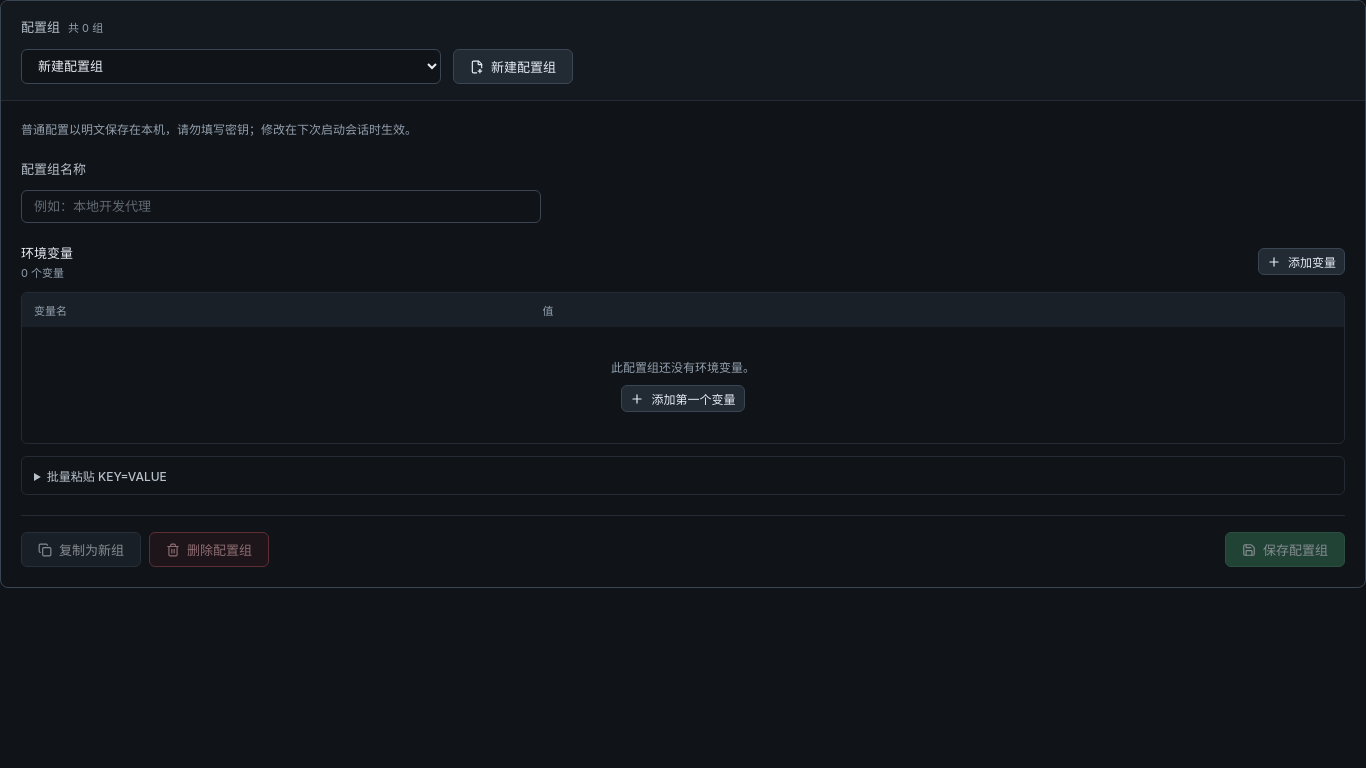
Test: environment configuration UI › creates a group from bulk input and displays saved state
Type "开发代理" into the field labelled "配置组名称" at (281, 206), box [21,190,541,223]
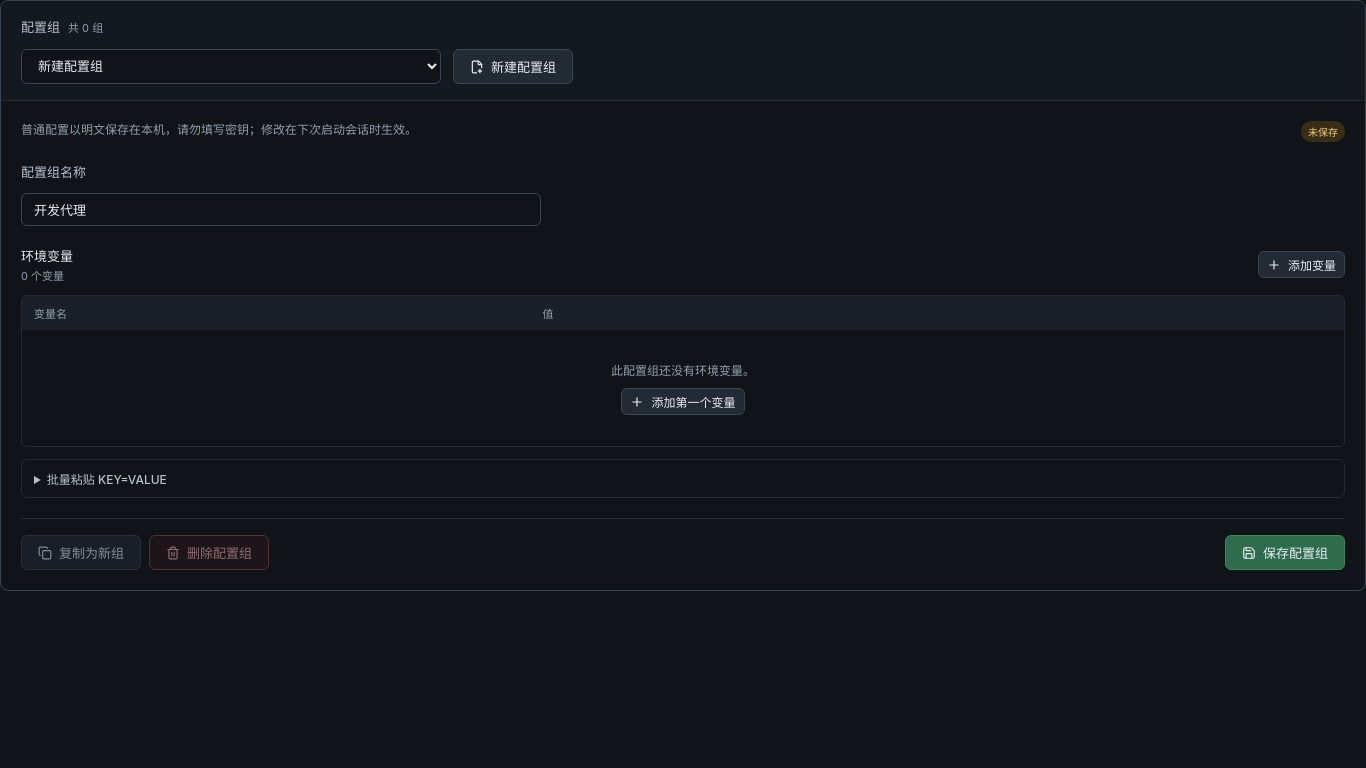
Click the heading "批量粘贴 KEY=VALUE" at (107, 480), box [47,472,167,487]
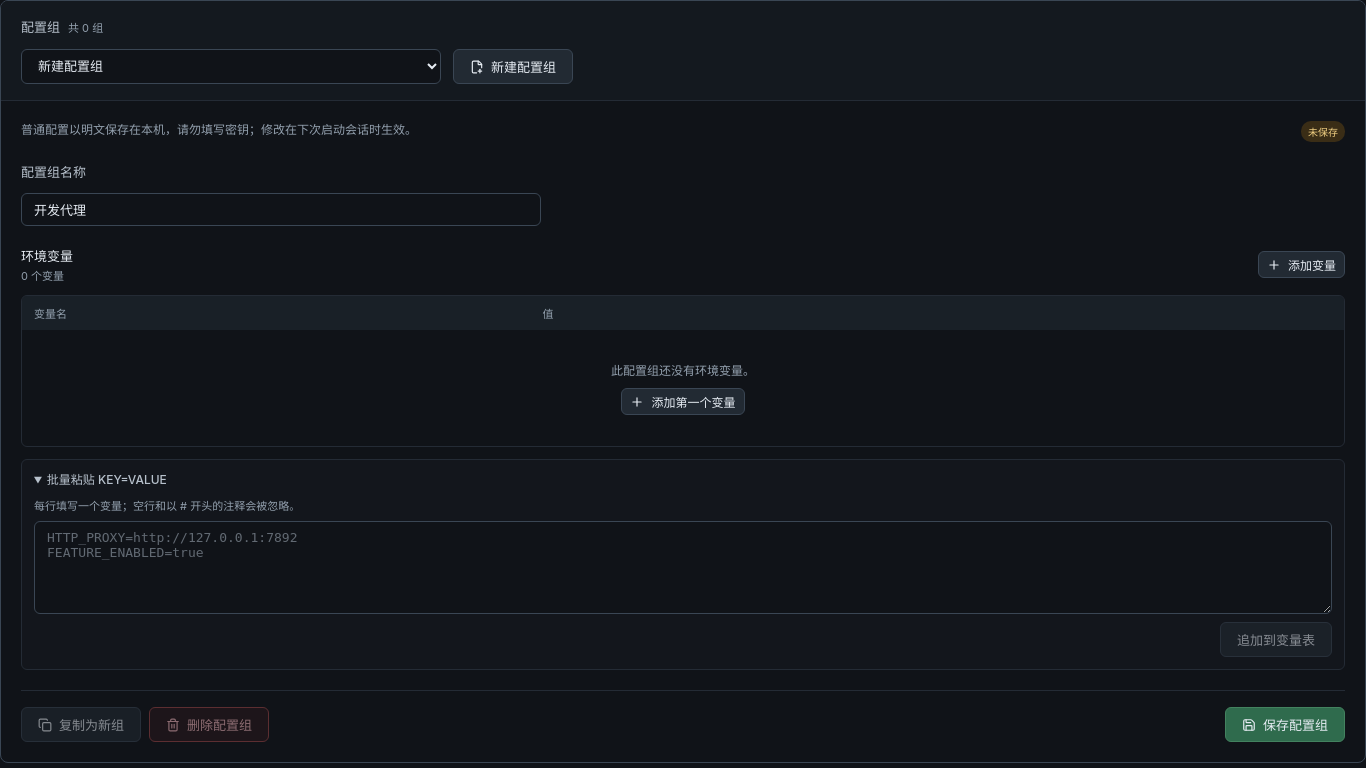
Type "HTTP_PROXY=http://localhost:7892" into the text box named "批量环境变量" at (683, 568), box [34,521,1332,614]
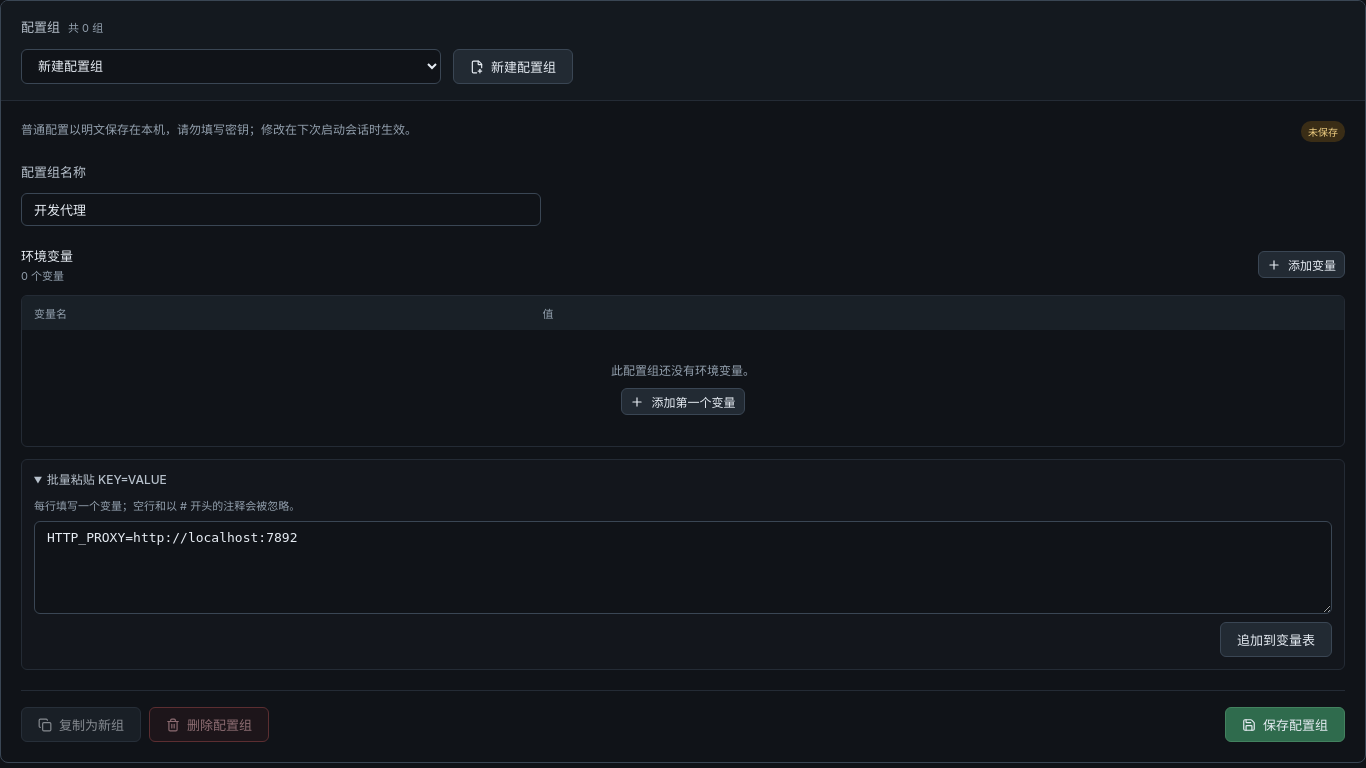
Click the button "追加到变量表" at (1276, 640), box [1220,622,1332,657]
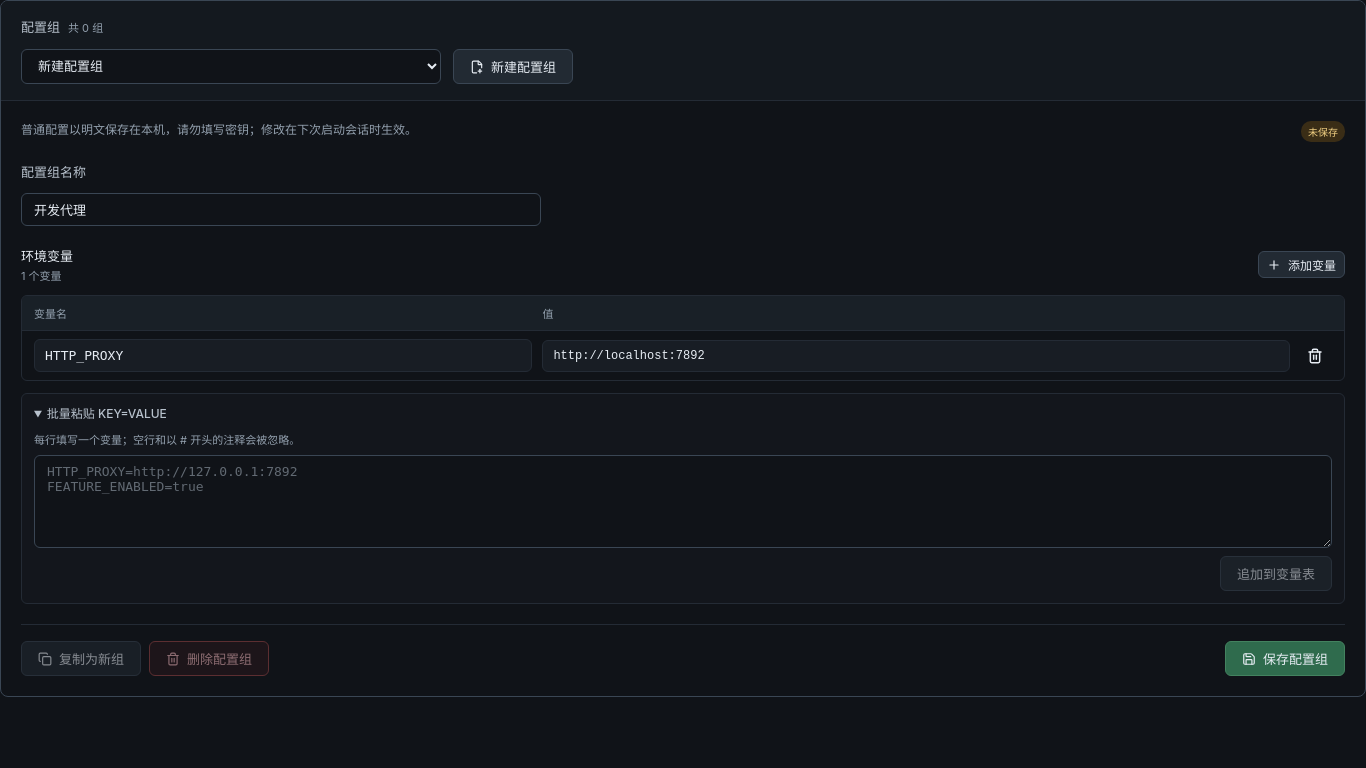
Click the button "保存配置组" at (1285, 658), box [1225,641,1345,676]
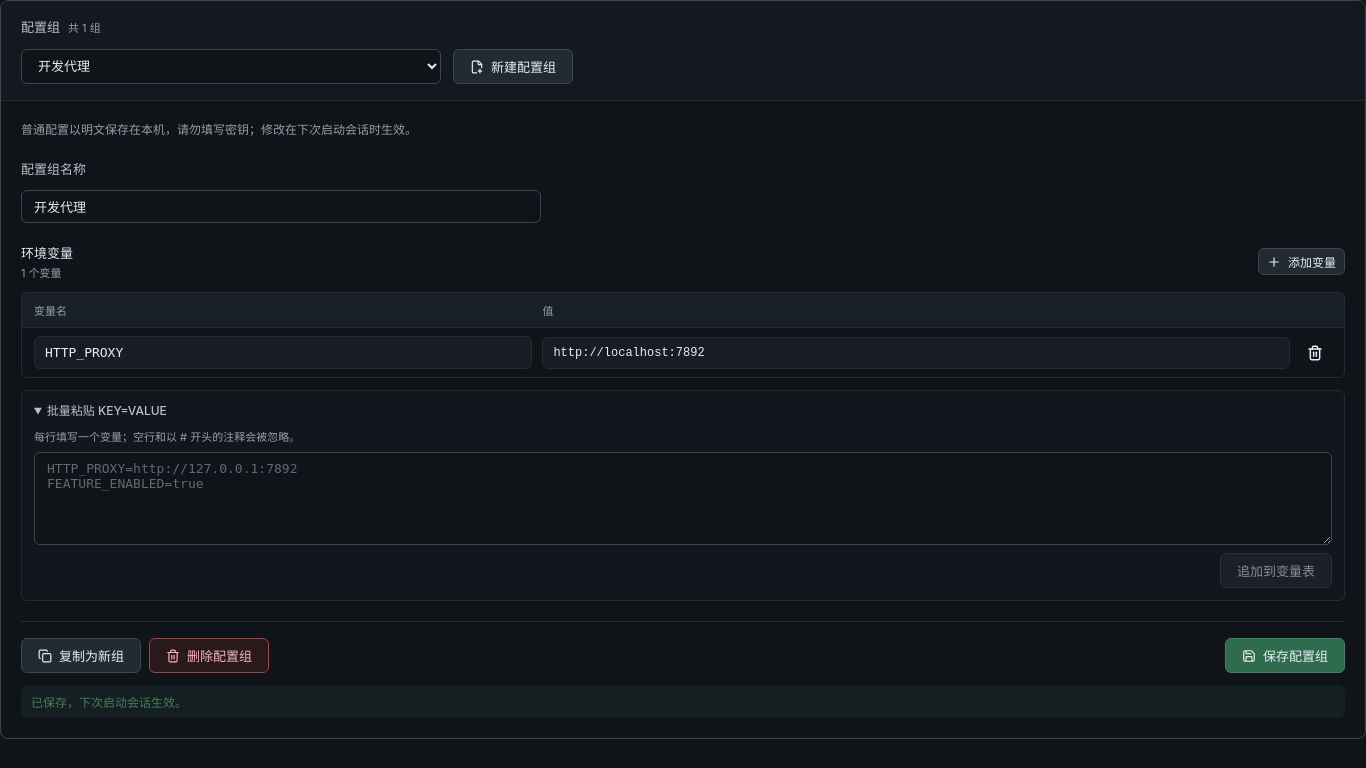
Expected: the text "已保存，下次启动会话生效。" is shown, [21,685,1345,718]
